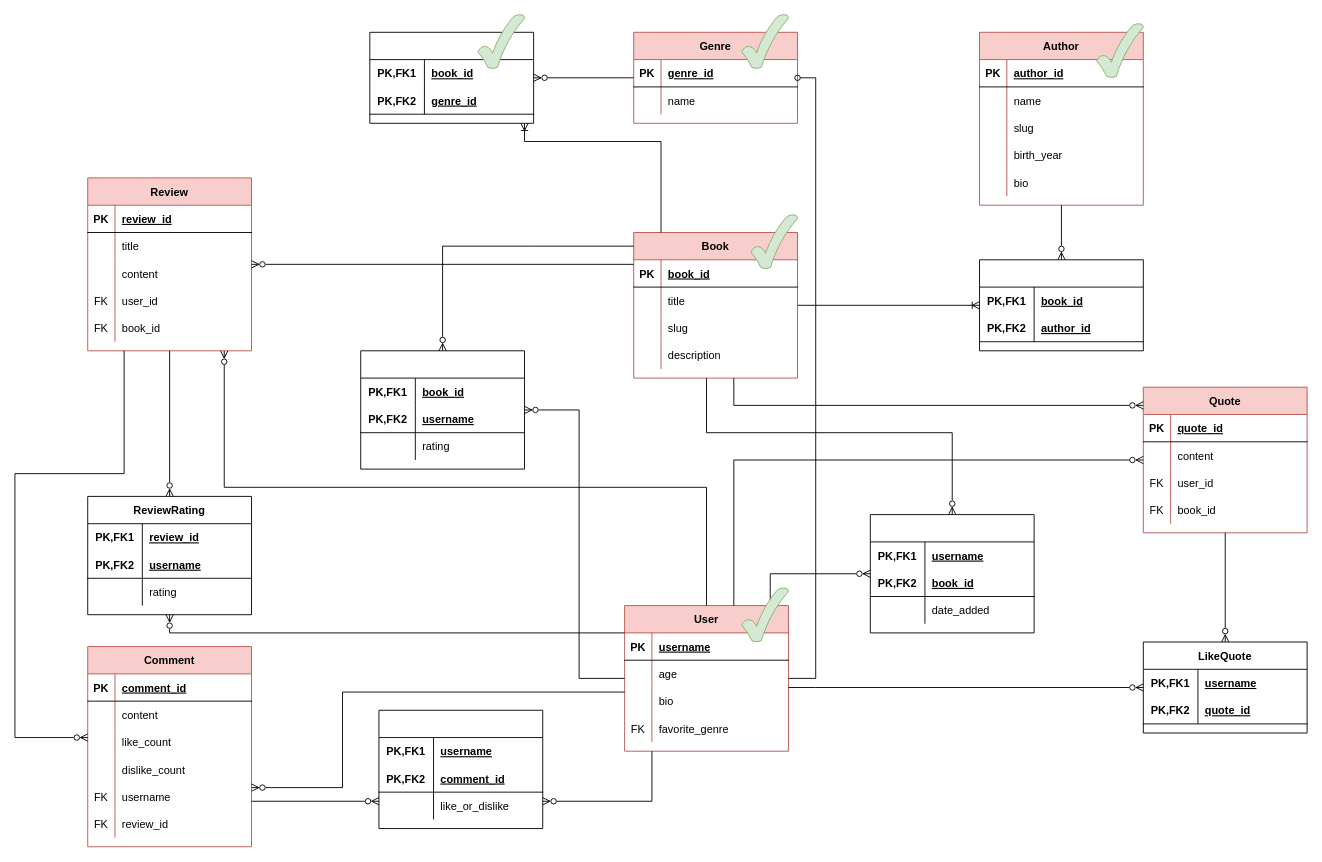
The diagram is 1322 pixels wide and 862 high, and some of its shapes have lost their labels. The shapes that lost their labels are listed below. From the top down, each one's box as (x1, y1, x2, y2) in pixels, then its label:
(369, 31, 534, 123): BookGenre
(979, 259, 1143, 351): BookAuthor
(360, 350, 525, 469): BookRating
(869, 514, 1034, 633): WantToRead
(378, 709, 543, 829): LikeDislikeComment
